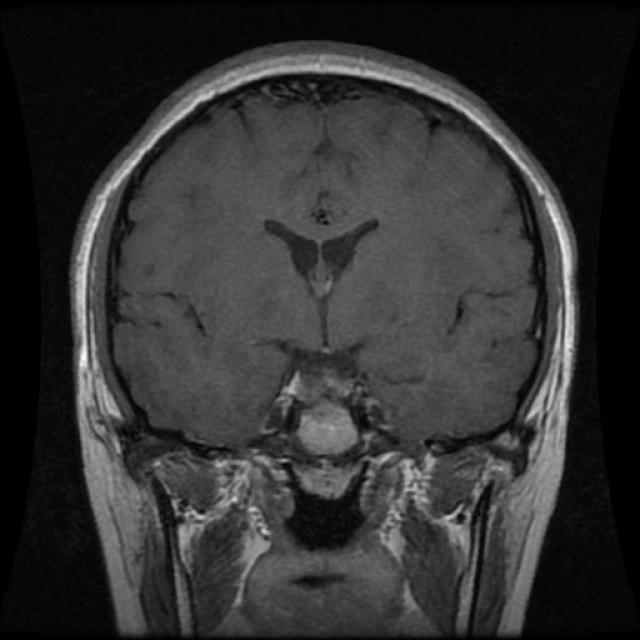pituitary: (267, 353, 377, 466)
